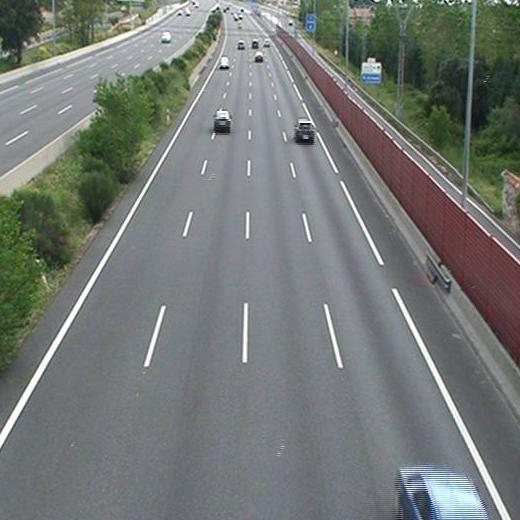car: (295, 121, 315, 140), (213, 110, 231, 129), (219, 57, 229, 68), (254, 52, 263, 61), (237, 41, 245, 50), (251, 40, 258, 48)
